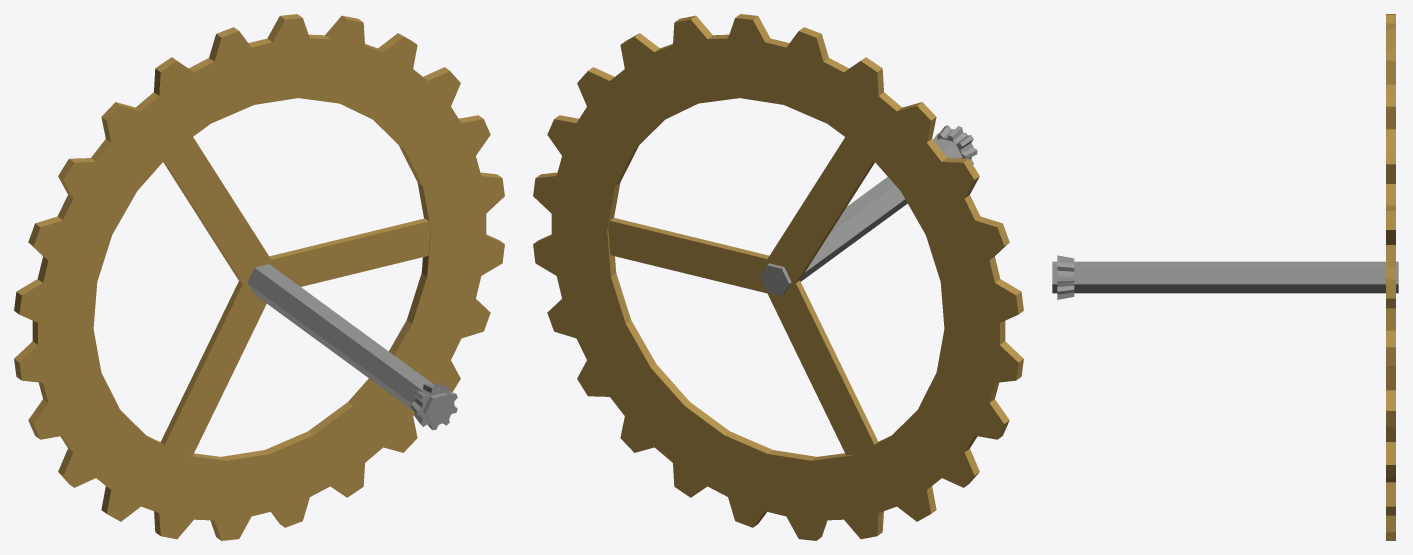
File: TransferArbor.glb
The picture shows the model from 3 angles, left to right: view 1: azimuth 30°, elevation 25°; view 2: azimuth 150°, elevation 25°; view 3: azimuth 270°, elevation 25°; orthographic projection. The views are drawn at different scales.
Parts seen in each view (by area): view 1: TransferArbor; view 2: TransferArbor; view 3: TransferArbor.
Part boxes in pixels (x1,y1,x2,y2): TransferArbor: (14,14,504,540); TransferArbor: (533,14,1023,540); TransferArbor: (1052,14,1398,540).
Bounding box in the file's own units: 0.6212 × 0.6212 × 0.41.
